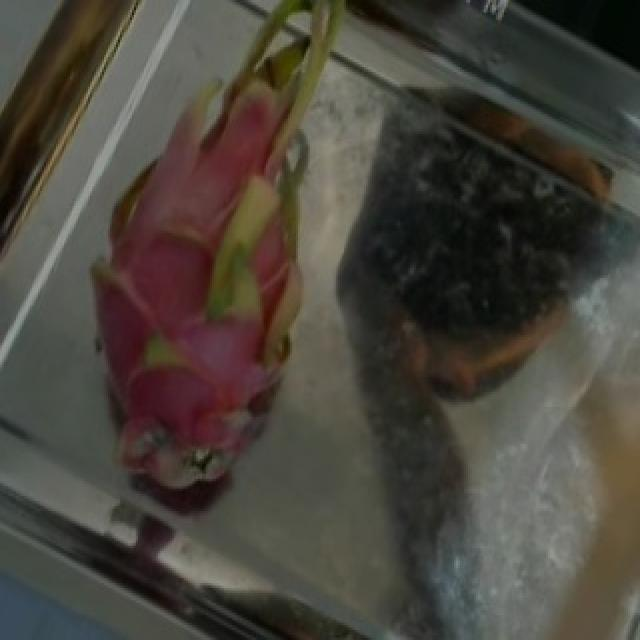fruit: (6, 0, 428, 422)
